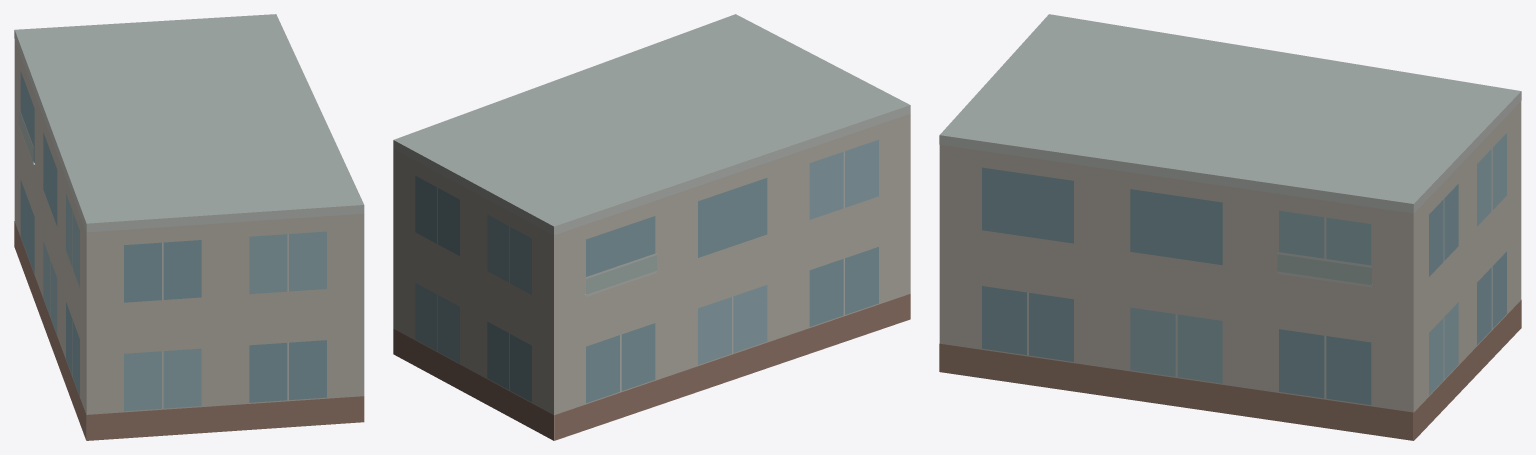
File: survey-upis-33005376.glb
The picture shows the model from 3 angles, left to right: view 1: azimuth 30°, elevation 25°; view 2: azimuth 150°, elevation 25°; view 3: azimuth 270°, elevation 25°; orthographic projection. The views are drawn at different scales.
Visible parts, largest first — view 1: survey-upis-33005376.tmp; view 2: survey-upis-33005376.tmp; view 3: survey-upis-33005376.tmp.
Boxes of the visible parts, box(x1,y1,x2,y2) form: survey-upis-33005376.tmp: box(14, 14, 364, 440); survey-upis-33005376.tmp: box(393, 14, 910, 440); survey-upis-33005376.tmp: box(939, 14, 1521, 440).
Size of the model in its own units: 10.51 by 6.1 by 13.6.
